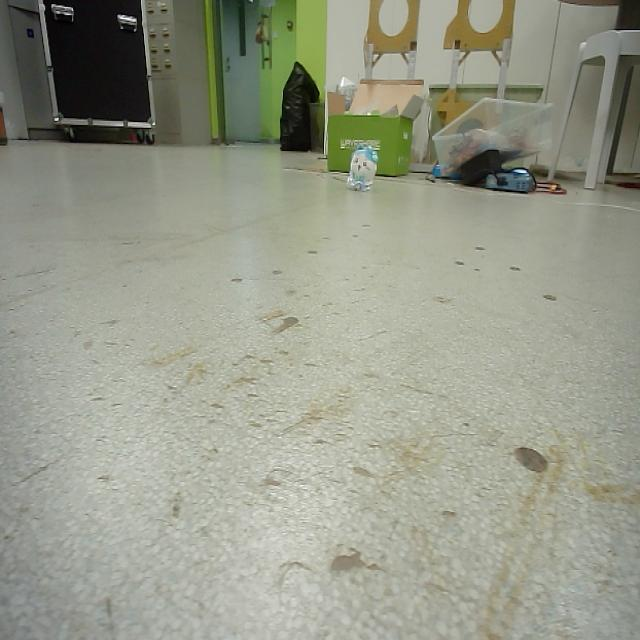xiaoba: (346, 144, 382, 196)
